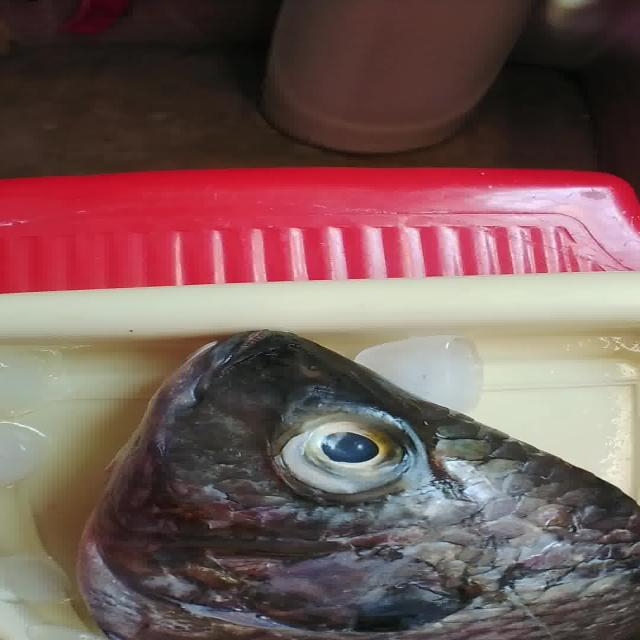Fresh: (259, 406, 441, 498)
